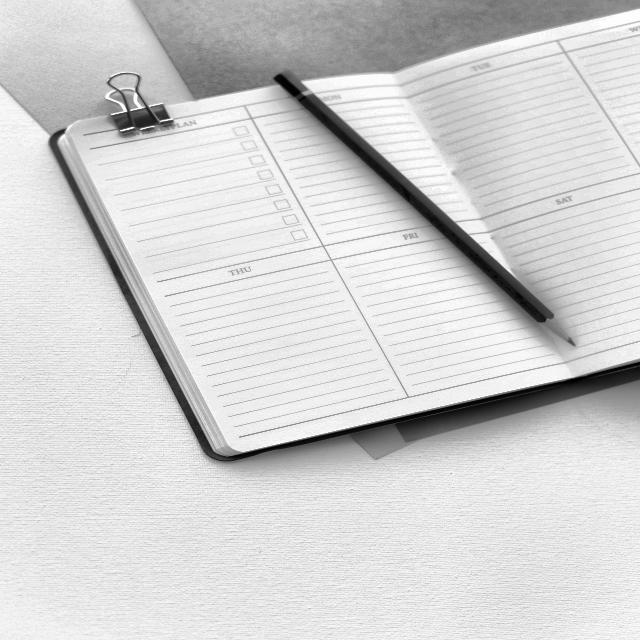Notebook: (48, 7, 632, 451)
